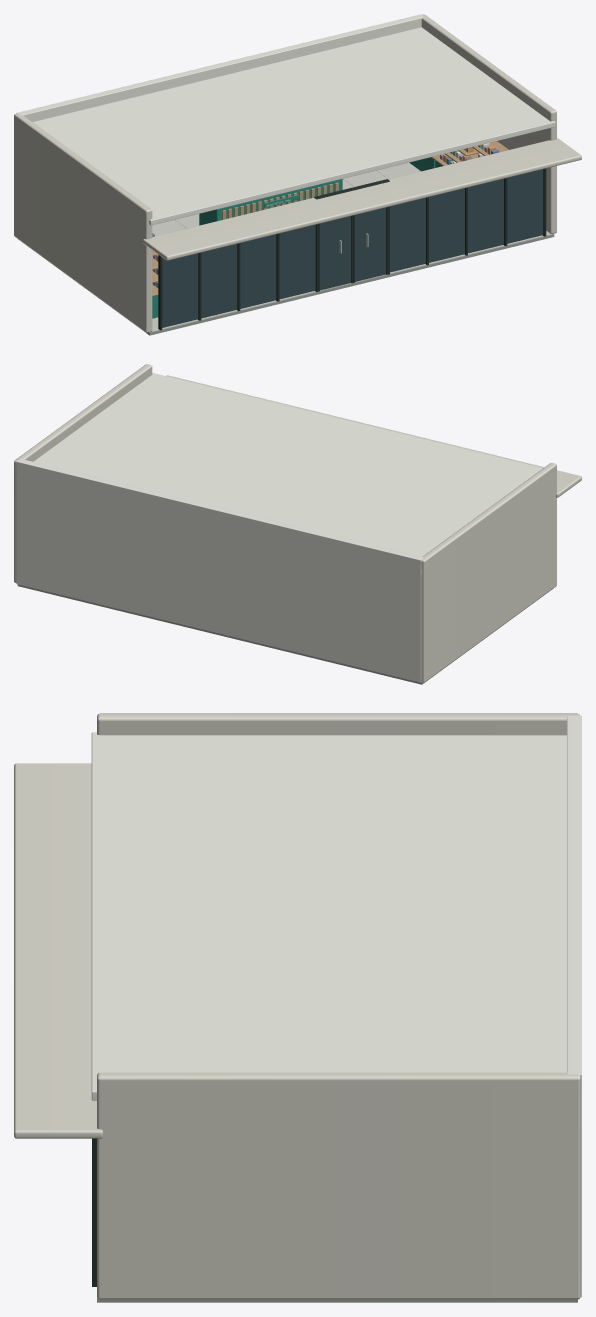
The model's file is pharmacy-interior.glb.
3 views of the same model, one above another, from view 1: azimuth 30°, elevation 25°; view 2: azimuth 150°, elevation 25°; view 3: azimuth 270°, elevation 25° (orthographic). The views are drawn at different scales.
Visible parts, largest first — view 1: Back wall, Canopy, Fixed frontage glazing, Counter plinth, Terrazzo tile, Entry door glass, Entry door glass.001, Billing counter, Subfloor, Counter oak slat; view 2: Back wall, Canopy, Subfloor; view 3: Back wall, Canopy, Subfloor, Counter plinth.
Boxes of the visible parts, bbox=[...] form: Back wall: bbox=[16, 14, 555, 225]; Canopy: bbox=[14, 14, 581, 332]; Fixed frontage glazing: bbox=[162, 169, 543, 327]; Counter plinth: bbox=[158, 168, 546, 330]; Terrazzo tile: bbox=[152, 162, 551, 331]; Entry door glass: bbox=[320, 216, 350, 290]; Entry door glass.001: bbox=[355, 207, 385, 281]; Billing counter: bbox=[152, 157, 442, 318]; Subfloor: bbox=[18, 234, 554, 335]; Counter oak slat: bbox=[152, 141, 508, 296]; Back wall: bbox=[16, 373, 542, 682]; Canopy: bbox=[14, 364, 581, 682]; Subfloor: bbox=[17, 584, 553, 684]; Back wall: bbox=[91, 715, 581, 1297]; Canopy: bbox=[14, 713, 580, 1299]; Subfloor: bbox=[97, 1297, 577, 1302]; Counter plinth: bbox=[92, 1138, 96, 1286].
Bounding box in the file's own units: 12.12 × 3.49 × 7.89.
